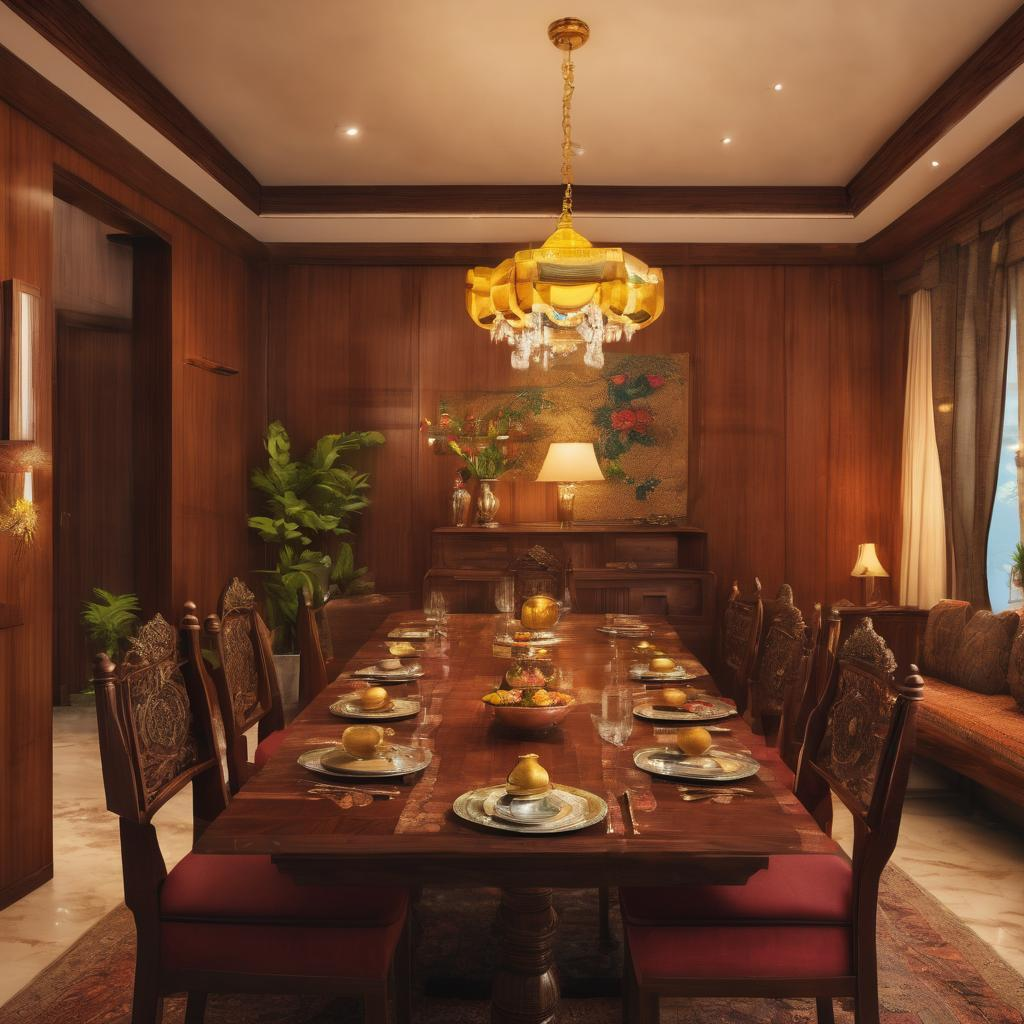chair: (91, 605, 427, 1024), (623, 613, 936, 1024), (205, 572, 297, 788), (745, 578, 833, 769), (698, 580, 767, 704), (291, 586, 359, 698)
light: (459, 8, 676, 382), (539, 437, 607, 533), (847, 532, 896, 608), (339, 116, 368, 142), (718, 132, 740, 153), (925, 153, 944, 175), (767, 77, 791, 93)
sofa: (866, 582, 1024, 861)
table: (185, 591, 853, 1024), (428, 524, 718, 662)
